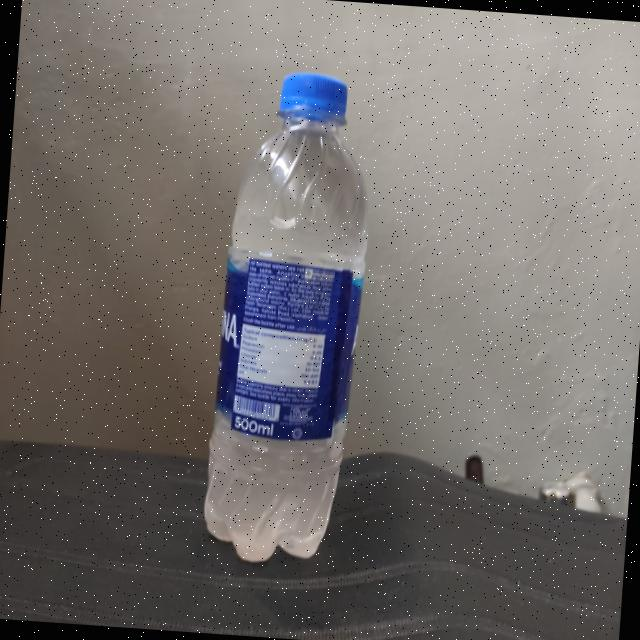bottle: (193, 64, 384, 568)
cap: (266, 66, 366, 134)
label: (205, 253, 371, 450)
